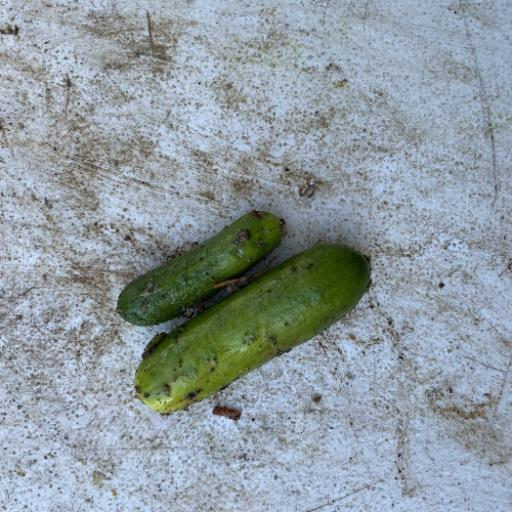Waste: (132, 242, 372, 416), (114, 208, 286, 328)
